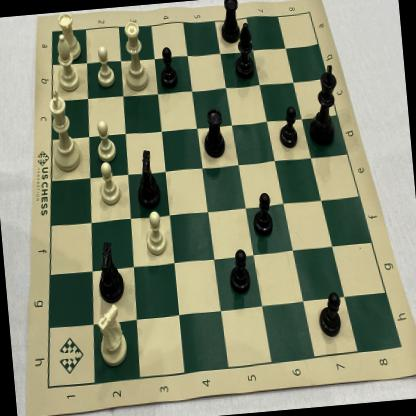bishop: (50, 25, 84, 96), (230, 18, 258, 84)
king: (44, 86, 87, 176), (302, 62, 345, 149)
knight: (92, 301, 134, 371), (92, 237, 128, 307), (130, 145, 166, 212)
pawn: (314, 290, 346, 343), (224, 244, 254, 300), (141, 207, 170, 260), (96, 158, 124, 208), (92, 116, 119, 167), (276, 102, 303, 152), (250, 188, 276, 239), (92, 43, 118, 92), (156, 43, 180, 93)
queen: (120, 15, 154, 97)
rook: (199, 106, 228, 162), (54, 10, 84, 64), (217, 0, 245, 48)
